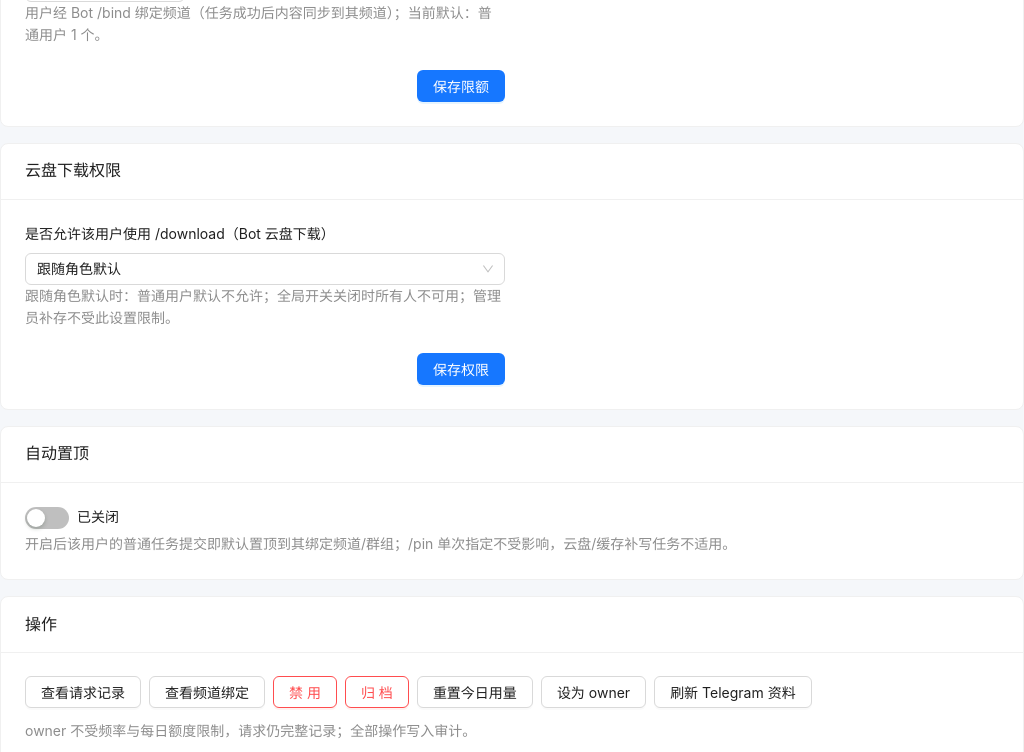
Test: 用户详情页写操作 › 云盘下载权限：失败展示服务端受控文案，不提示成功
The image size is (1024, 752).
(page scrolled)
Click the button "保存权限": click(461, 368) [417,352,505,384]
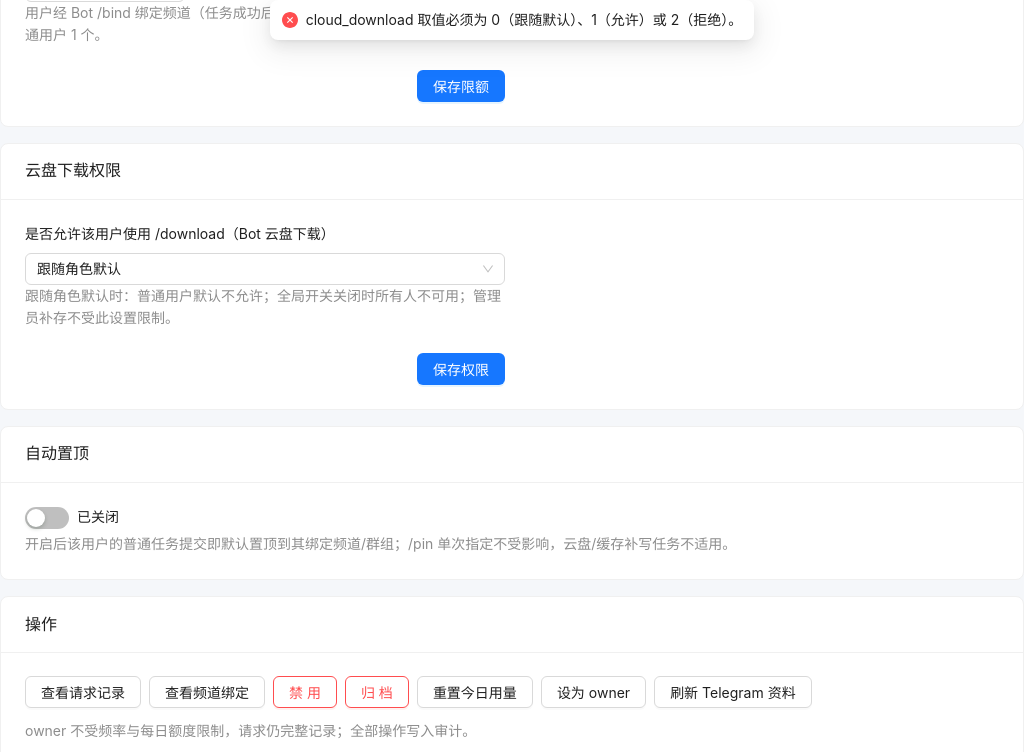
Now the text "cloud_download 取值必须为 0（跟随默认）、1（允许）或 2（拒绝）。" is shown, box [306,9,742,31]
